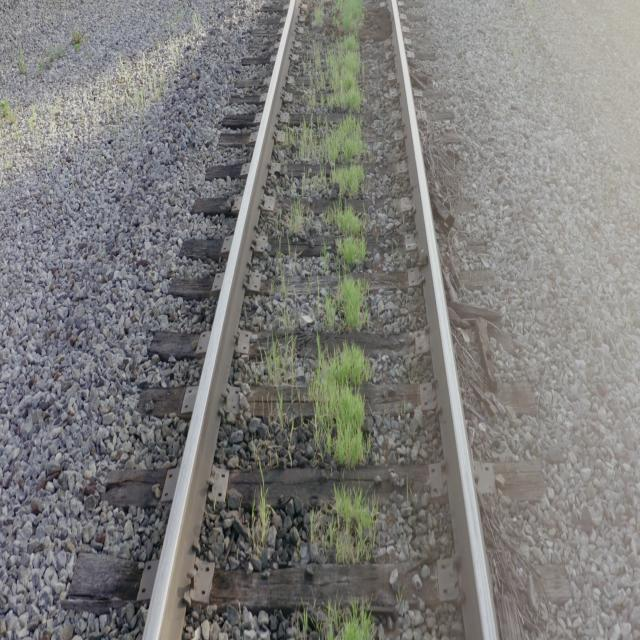Plant: (279, 0, 369, 331), (310, 342, 370, 467), (310, 482, 379, 564), (315, 604, 375, 640), (265, 338, 296, 387), (251, 487, 270, 549), (280, 200, 311, 231)
